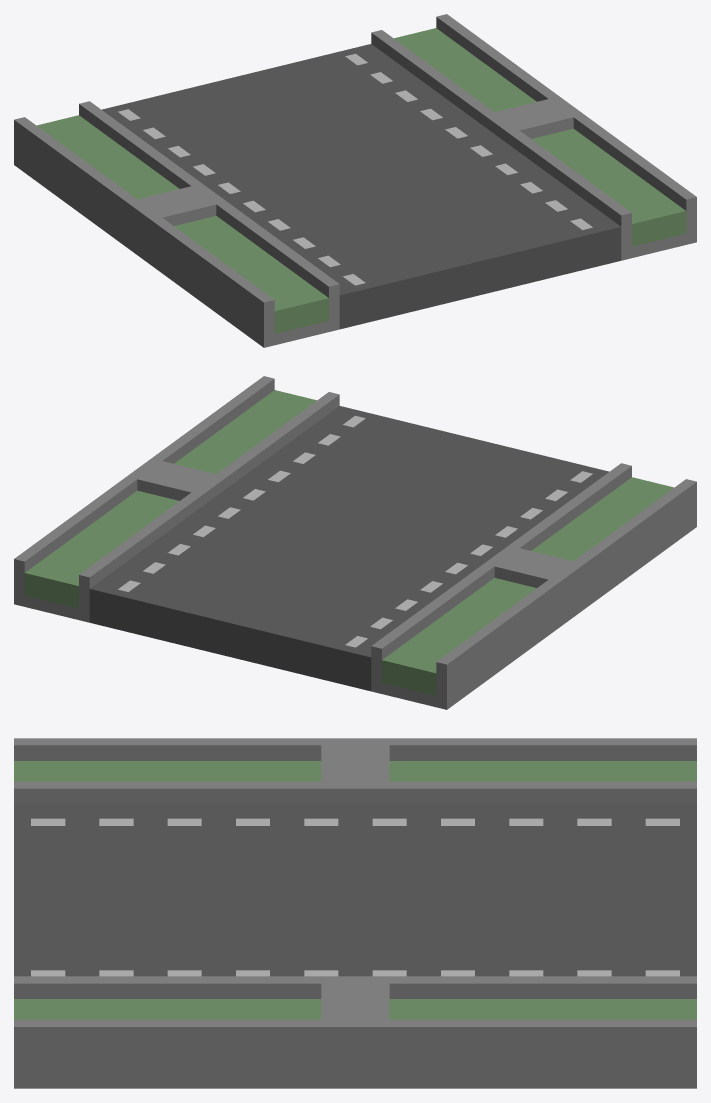
Rendered from RoadVer.vox.obj.
The picture shows the model from 3 angles, top to bottom: view 1: azimuth 30°, elevation 25°; view 2: azimuth 150°, elevation 25°; view 3: azimuth 270°, elevation 25°; orthographic projection. The views are drawn at different scales.
Bounding box in the file's own units: 4 × 0.4 × 4.
1 material, 1 textured.
